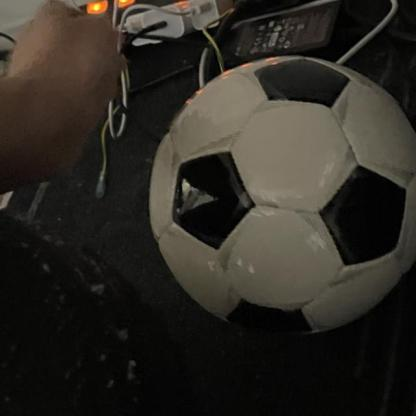ball: (149, 54, 415, 338)
